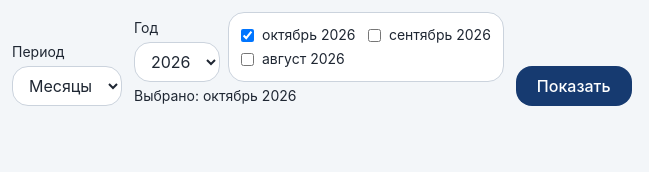
Test case: фильтры отчёта: поля зависят от режима › «День» — только «С даты» и «По дату»
The image size is (649, 172).
Select "День" in the dropdown labelled "Период" at [67, 86], box [12,66,122,106]
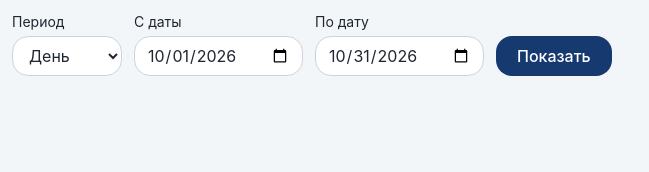
Expected: the date field labelled "С даты" is shown, [134,36,303,76]
Expected: the date field labelled "По дату" is shown, [315,36,484,76]
